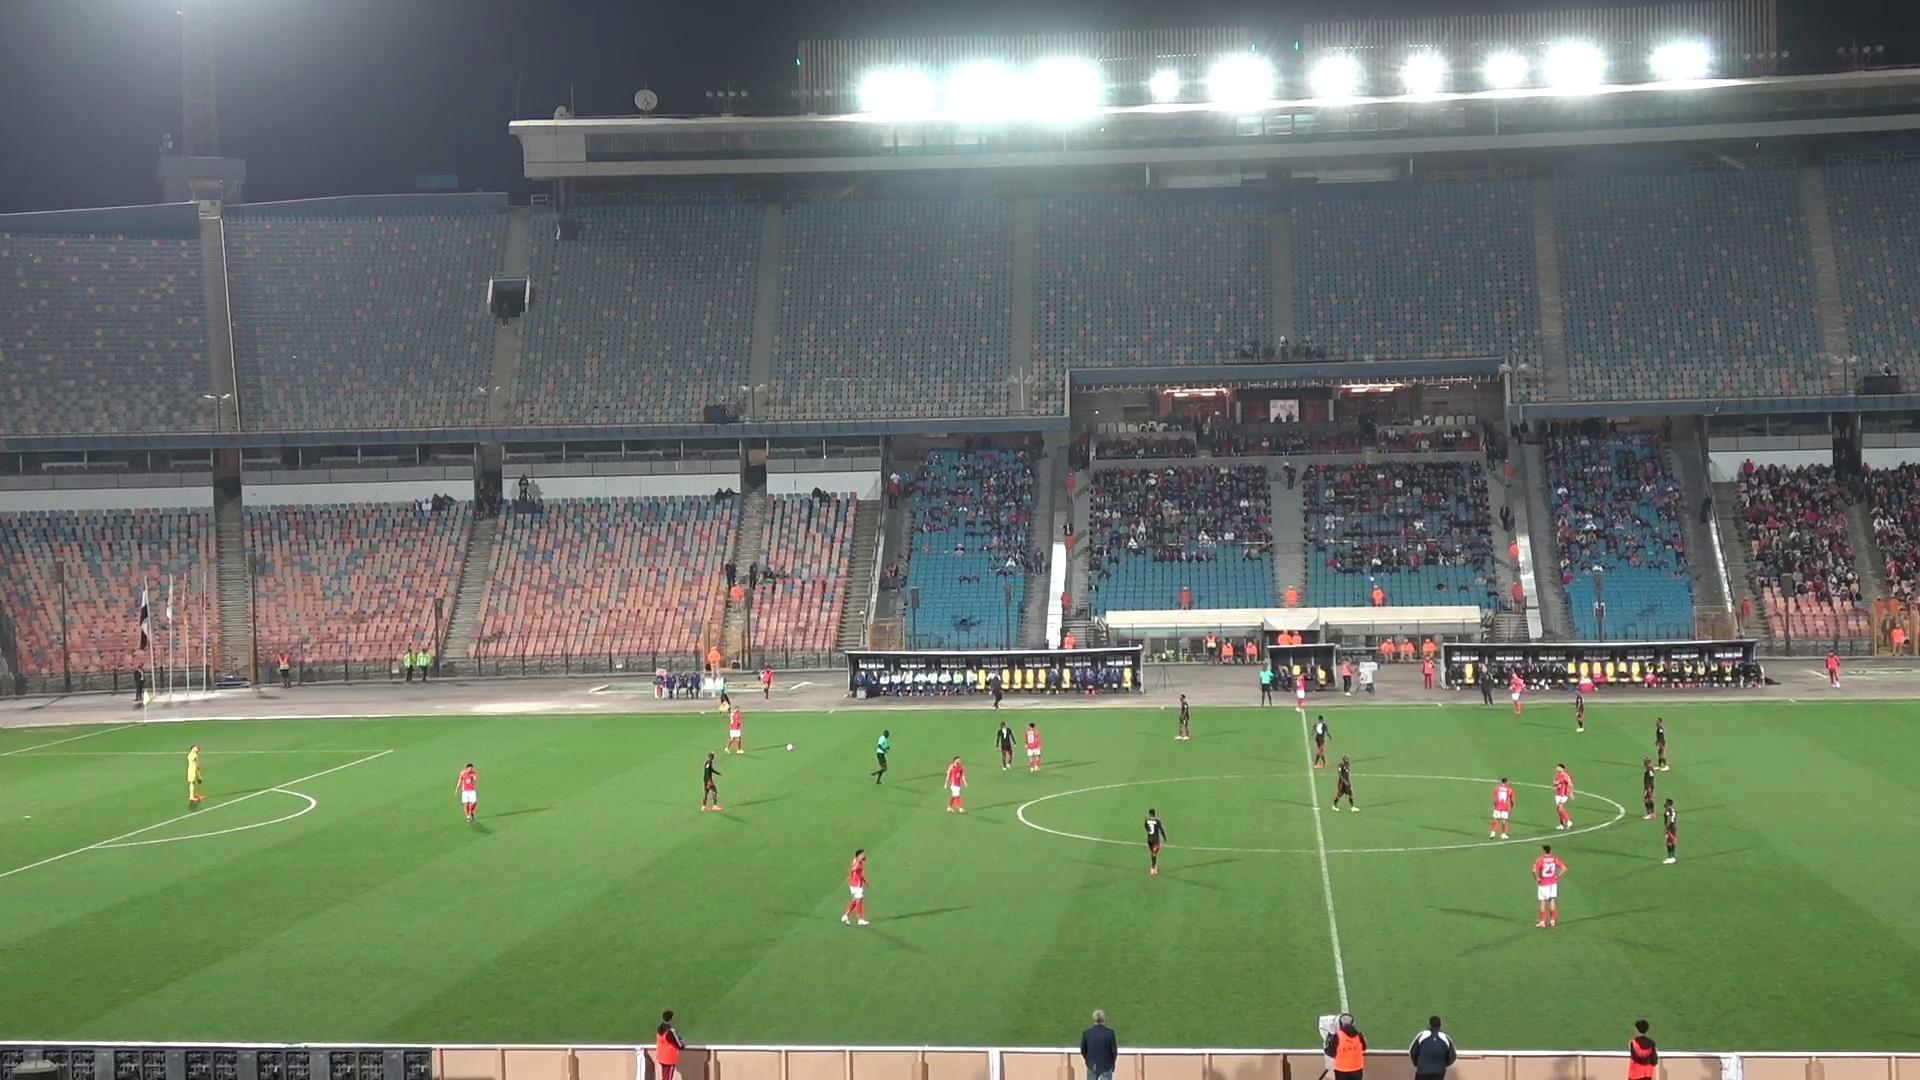Ball: (782, 742, 796, 752)
GK1: (185, 744, 204, 812)
Refree: (870, 731, 890, 785), (1257, 665, 1278, 705)
Team1: (1534, 845, 1567, 927), (840, 848, 869, 924), (1487, 777, 1515, 839), (1553, 764, 1575, 829), (455, 764, 477, 823), (719, 702, 742, 753), (993, 721, 1017, 770), (947, 757, 967, 814), (1022, 721, 1043, 771), (1509, 669, 1528, 715), (1290, 665, 1307, 717)
Team2: (1331, 754, 1360, 811), (1142, 808, 1166, 876), (1656, 796, 1679, 862), (700, 752, 723, 808), (1646, 716, 1668, 771), (1308, 715, 1331, 766), (1174, 694, 1192, 740), (1573, 690, 1586, 733)
